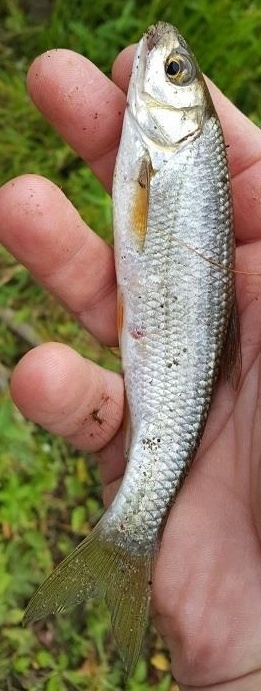Leuciscus leuciscus: (20, 20, 241, 676)
